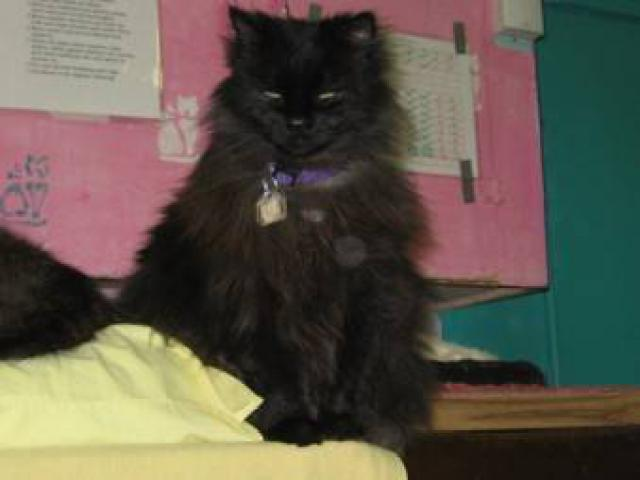cat: (182, 10, 422, 385)
